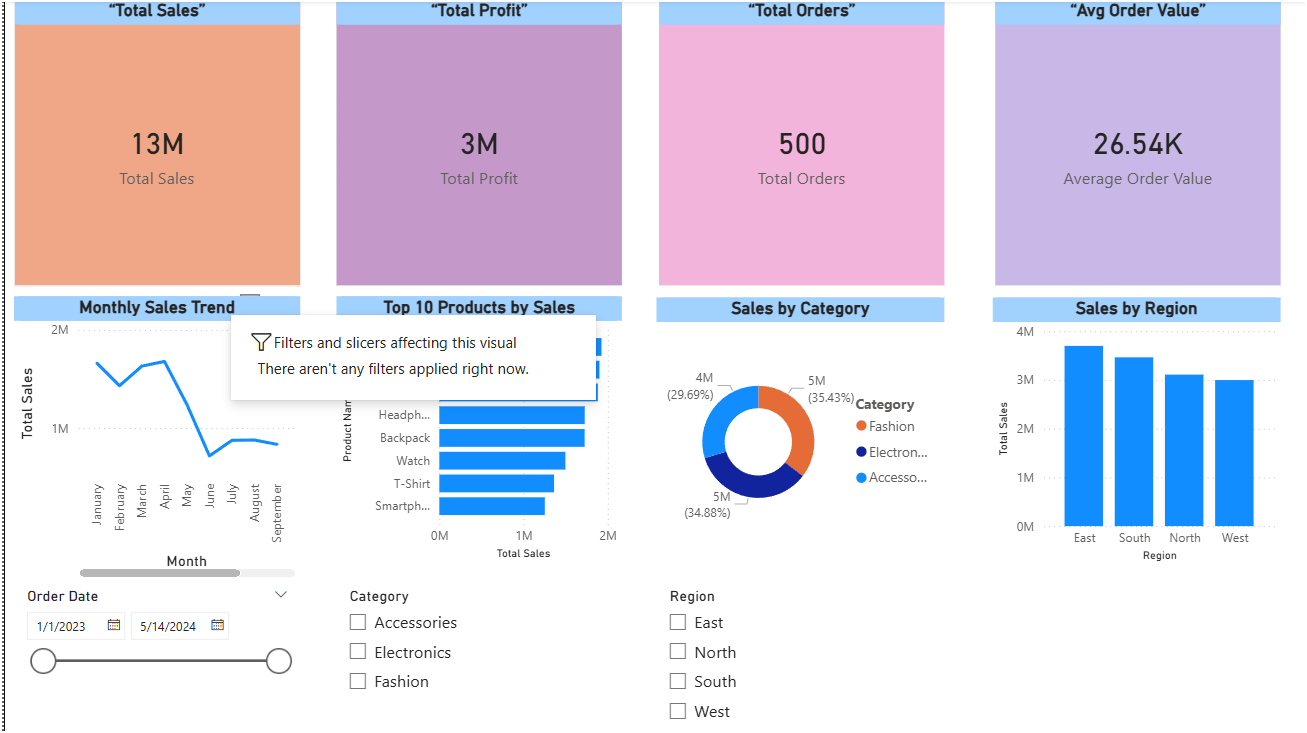

This screenshot's page, from the dashboard's own definition file:
{"tool":"powerbi","page":{"name":"Page 1","canvas":[1280,720],"ordinal":0},"visuals":[{"type":"card","title":"“Total Sales”","fields":{"Values":["ecommerce_sales_task1.Total Sales"]},"box":[10,0,280,280],"z":0},{"type":"card","title":"“Total Profit”","fields":{"Values":["ecommerce_sales_task1.Total Profit"]},"box":[324.7,0,279.6,279.6],"z":1},{"type":"card","title":"“Total Orders”","fields":{"Values":["ecommerce_sales_task1.Total Orders"]},"box":[640.9,0,279.6,279.6],"z":2},{"type":"card","title":"“Avg Order Value”","fields":{"Values":["ecommerce_sales_task1.Average Order Value"]},"box":[969.9,0,279.6,279.6],"z":3},{"type":"lineChart","title":"Monthly Sales Trend","fields":{"Category":["ecommerce_sales_task1.Order Date.Variation.Date Hierarchy.Month"],"Y":["ecommerce_sales_task1.Total Sales"]},"box":[10,290,280,280],"z":4},{"type":"clusteredBarChart","title":"Top 10 Products by Sales","fields":{"Category":["ecommerce_sales_task1.Product Name"],"Y":["ecommerce_sales_task1.Total Sales"]},"box":[324.7,290.3,279.6,262.4],"z":5},{"type":"donutChart","title":"Sales by Category","fields":{"Category":["ecommerce_sales_task1.Category"],"Y":["ecommerce_sales_task1.Total Sales"]},"box":[638.2,290.6,281.7,263.7],"z":6},{"type":"clusteredColumnChart","title":"Sales by Region","fields":{"Category":["ecommerce_sales_task1.Region"],"Y":["ecommerce_sales_task1.Total Sales"]},"box":[967.8,290.6,281.7,263.7],"z":7},{"type":"slicer","fields":{"Values":["ecommerce_sales_task1.Order Date"]},"box":[10,570,280,150],"z":8},{"type":"slicer","fields":{"Values":["ecommerce_sales_task1.Category"]},"box":[325,570,280,150],"z":9},{"type":"slicer","fields":{"Values":["ecommerce_sales_task1.Region"]},"box":[638,570,282,150],"z":10}]}

Visuals, with their boxes in screenshot pixels (x1, y1, x2, y2), scaled from the page's 1280x720 canvas onto the 1307x733 screenshot:
"“Total Sales”" card: 10 0 296 285
"“Total Profit”" card: 332 0 617 285
"“Total Orders”" card: 654 0 940 285
"“Avg Order Value”" card: 990 0 1276 285
"Monthly Sales Trend" lineChart: 10 295 296 580
"Top 10 Products by Sales" clusteredBarChart: 332 296 617 563
"Sales by Category" donutChart: 652 296 939 564
"Sales by Region" clusteredColumnChart: 988 296 1276 564
slicer - ecommerce_sales_task1.Order Date: 10 580 296 732
slicer - ecommerce_sales_task1.Category: 332 580 618 732
slicer - ecommerce_sales_task1.Region: 651 580 939 732
